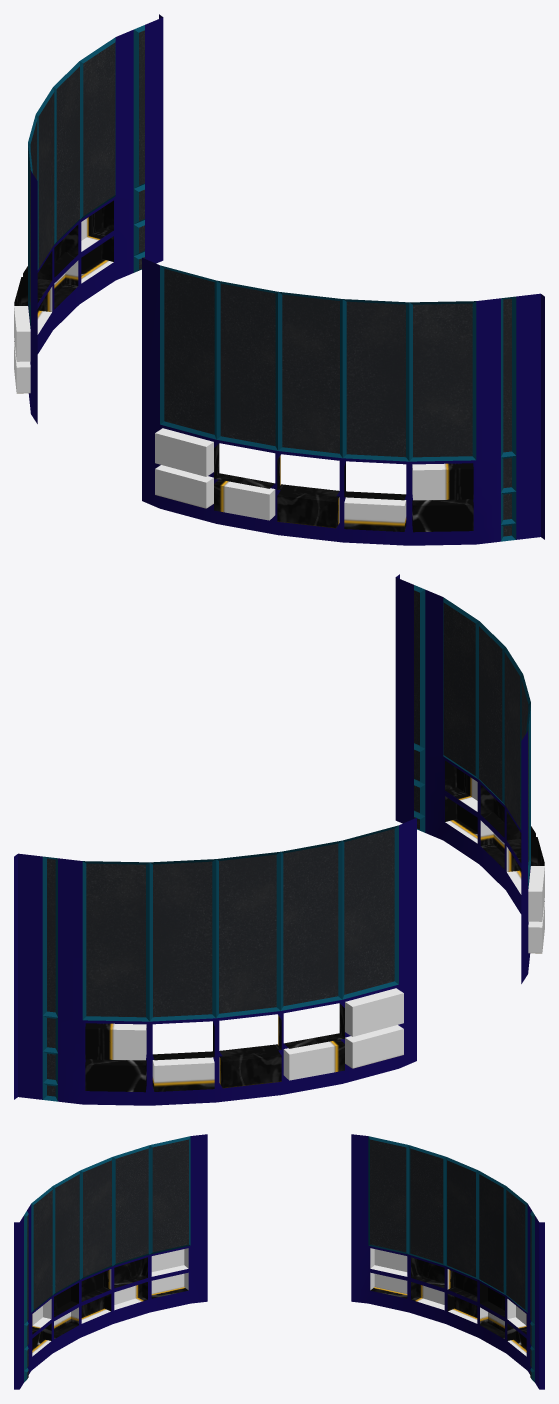
Rendered from East.Wall.001.fbx.
3 renders of one model, top to bottom at view 1: azimuth 30°, elevation 25°; view 2: azimuth 150°, elevation 25°; view 3: azimuth 270°, elevation 25°, orthographic. The views are drawn at different scales.
Visible parts, largest first — view 1: East.Wall.001; view 2: East.Wall.001; view 3: East.Wall.001.
Part boxes in pixels (bbox=[...]): East.Wall.001: bbox=[14, 14, 544, 545]; East.Wall.001: bbox=[14, 574, 544, 1105]; East.Wall.001: bbox=[14, 1134, 544, 1389].
Size of the model in its own units: 11.4 by 28.62 by 9.96.
